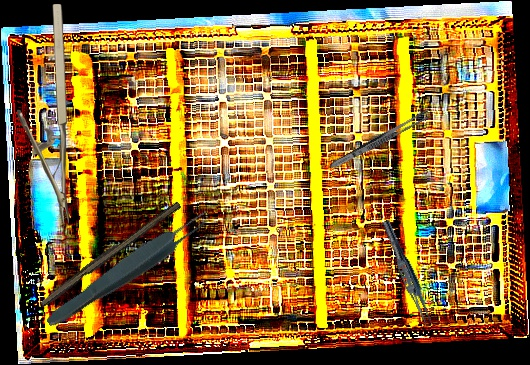Dressing Forceps: (326, 107, 433, 173)
Needle Holder: (17, 4, 69, 224)
Scalpel Handle: (37, 196, 182, 311)
Tissue Forceps: (41, 203, 217, 335), (376, 218, 439, 330)
